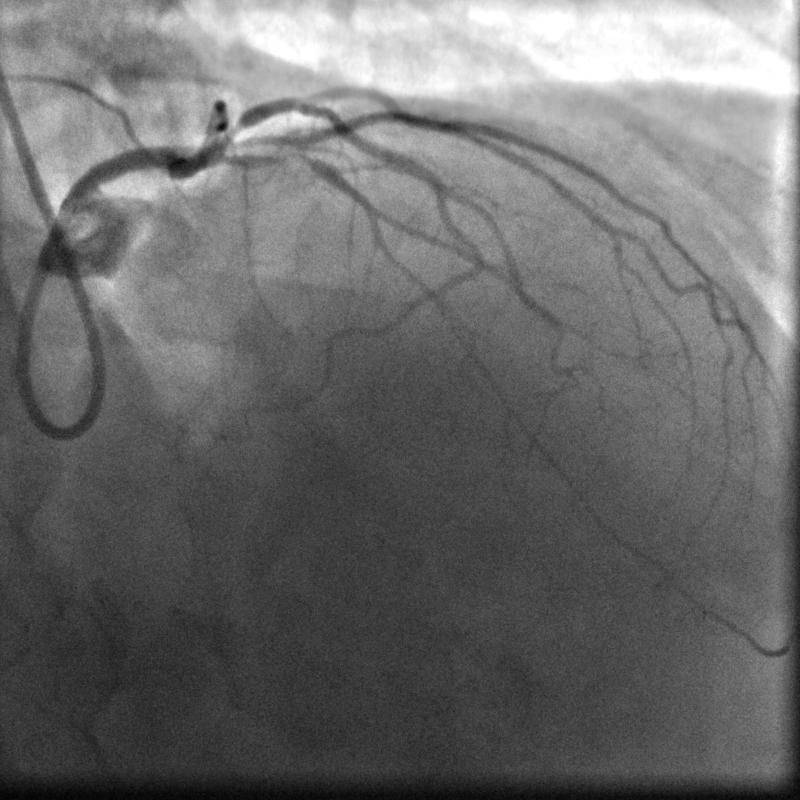Stenosis: (219, 112, 246, 150)
